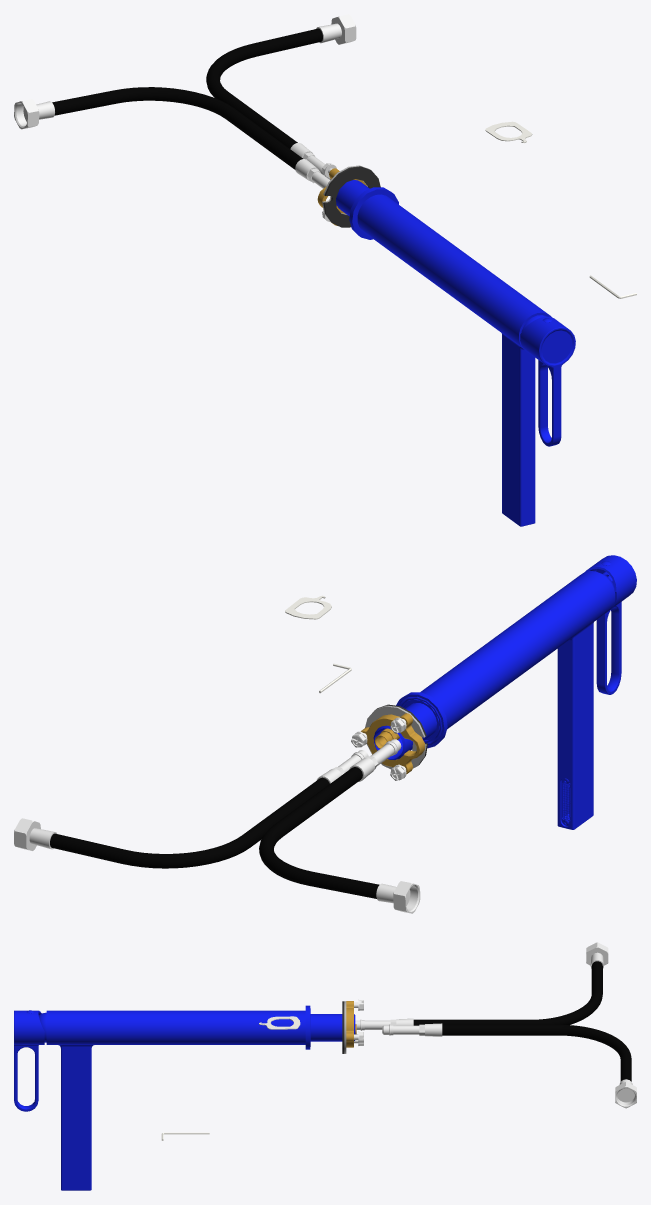
The model's file is nuevo1.glb.
3 views of the same model, one above another, from view 1: azimuth 30°, elevation 25°; view 2: azimuth 150°, elevation 25°; view 3: azimuth 270°, elevation 25° (orthographic). The views are drawn at different scales.
Visible parts, largest first — view 1: Asset3DLoader.sceneRoot; view 2: Asset3DLoader.sceneRoot; view 3: Asset3DLoader.sceneRoot.
Part boxes in pixels (x1,y1,x2,y2): Asset3DLoader.sceneRoot: [14, 14, 636, 526]; Asset3DLoader.sceneRoot: [14, 555, 636, 913]; Asset3DLoader.sceneRoot: [14, 942, 636, 1190].
Size of the model in its own units: 336 by 243 by 649.
